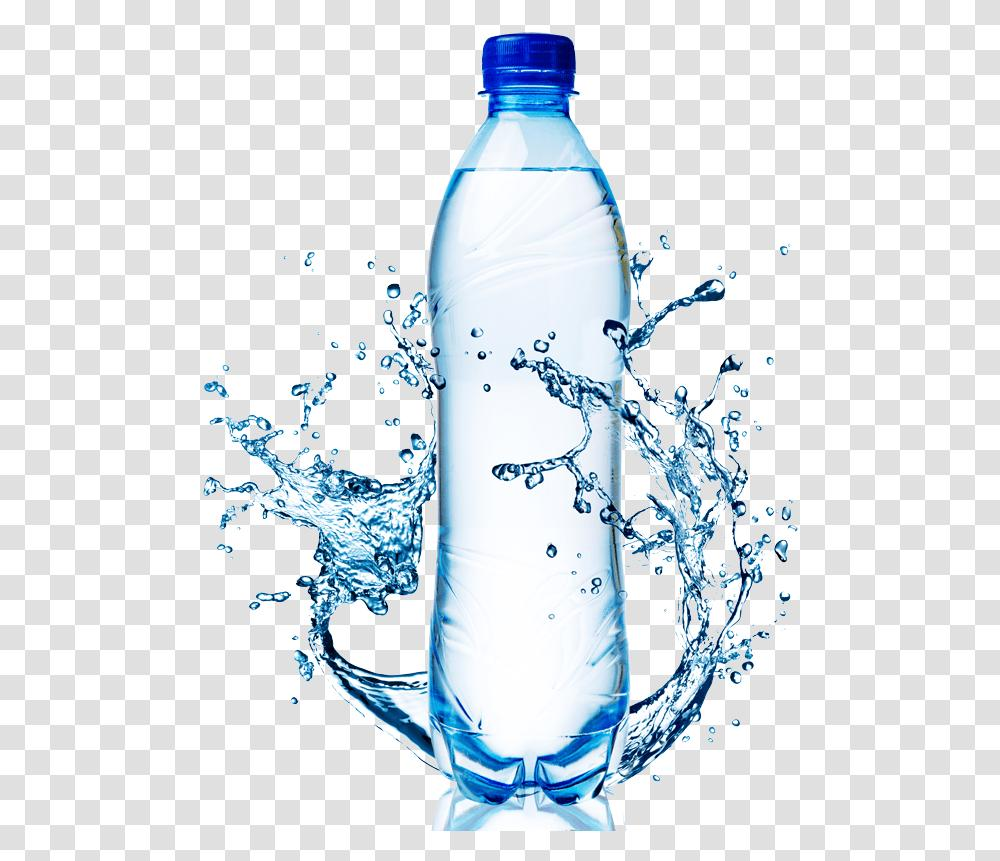bottle: (346, 31, 702, 832)
